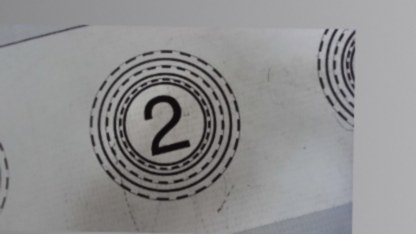2r: (86, 47, 242, 204)
